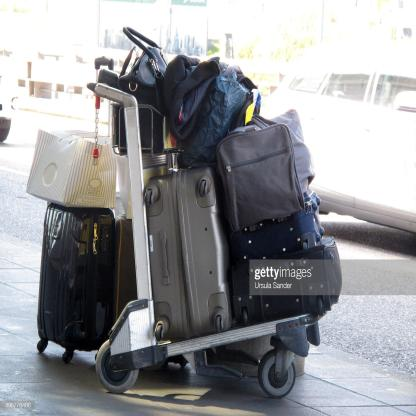airport-trolley: (84, 54, 340, 403)
